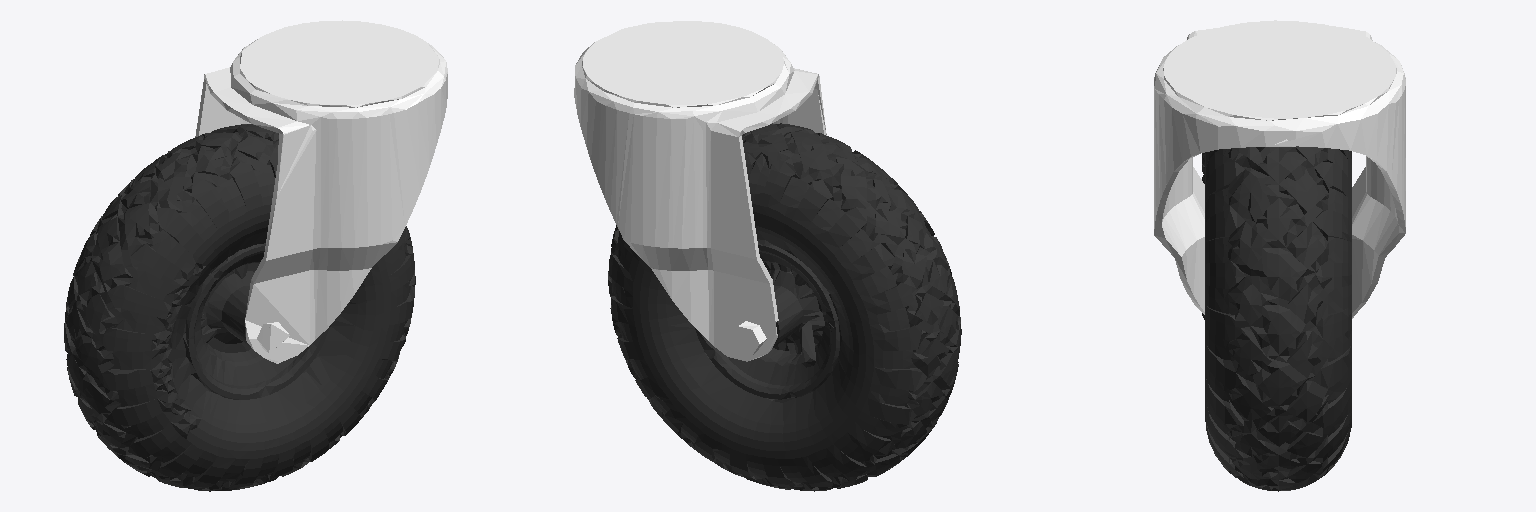
robot.urdf — caster_cart:
<?xml version="1.0" ?>
<!-- =================================================================================== -->
<!-- |    This document was autogenerated by xacro from caster_stool.urdf.xacro        | -->
<!-- |    EDITING THIS FILE BY HAND IS NOT RECOMMENDED                                 | -->
<!-- =================================================================================== -->
<!--
Description of the caster module for the Innok Heros mobile platform.
Software License Agreement (BSD)
\authors [author]
\maintainer [author] <[email redacted]>
\copyright Copyright (c) 2015, Innok Robotics GmbH, All rights reserved
Redistribution and use in source and binary forms, with or without modification, are permitted provided that the following conditions are met:
1. Redistributions of source code must retain the above copyright notice, this list of conditions and the following disclaimer.
2. Redistributions in binary form must reproduce the above copyright notice, this list of conditions and the following disclaimer in the documentation and/or other materials provided with the distribution.
THIS SOFTWARE IS PROVIDED BY THE COPYRIGHT [author] "AS IS" AND ANY EXPRESS OR IMPLIED WARRANTIES, INCLUDING, BUT NOT LIMITED TO, THE IMPLIED WARRANTIES OF MERCHANTABILITY AND FITNESS FOR A PARTICULAR PURPOSE ARE DISCLAIMED. IN NO EVENT SHALL THE COPYRIGHT [author] LIABLE FOR ANY DIRECT, INDIRECT, INCIDENTAL, SPECIAL, EXEMPLARY, OR CONSEQUENTIAL DAMAGES (INCLUDING, BUT NOT LIMITED TO, PROCUREMENT OF SUBSTITUTE GOODS OR SERVICES; LOSS OF USE, DATA, OR PROFITS; OR BUSINESS INTERRUPTION) HOWEVER CAUSED AND ON ANY THEORY OF LIABILITY, WHETHER IN CONTRACT, STRICT LIABILITY, OR TORT (INCLUDING NEGLIGENCE OR OTHERWISE) ARISING IN ANY WAY OUT OF THE USE OF THIS SOFTWARE, EVEN IF ADVISED OF THE POSSIBILITY OF SUCH DAMAGE.
-->
<robot name="caster_cart" xmlns:xacro="http://ros.org/wiki/xacro">
  <link name="caster_top">
    <inertial>
      <origin rpy="0 0 0" xyz="-0.006133 0 -0.016533"/>
      <mass value="0.1"/>
      <inertia ixx="5.46e-4" ixy="0" ixz="0" iyy="5.46e-4" iyz="0" izz="3.4e-4"/>
    </inertial>
    <visual>
      <origin rpy="0 0 0" xyz="0 0 0"/>
      <geometry>
        <mesh filename="model://caster_cart/meshes/caster_top.STL" scale="0.267 0.267 0.267"/>
      </geometry>
      <material name="white">
        <color rgba="1 1 1 1"/>
      </material>
    </visual>
    <collision>
      <origin rpy="0 0 0" xyz="0 0 -0.01333"/>
      <geometry>
        <cylinder length="0.024" radius="0.01866"/>
      </geometry>
    </collision>
  </link>
  <link name="caster_wheel">
    <inertial>
      <origin rpy="0 0 0" xyz="0 0 0"/>
      <mass value="0.05"/>
      <inertia ixx="1.13e-4" ixy="0" ixz="0" iyy="2e-4" iyz="0" izz="1.13e-4"/>
    </inertial>
    <visual>
      <origin rpy="0 0 0" xyz="0 0 0"/>
      <geometry>
        <mesh filename="model://caster_cart/meshes/caster_wheel.STL" scale="0.267 0.267 0.267"/>
      </geometry>
      <material name="">
        <color rgba="0.25 0.25 0.25 1"/>
      </material>
    </visual>
    <collision>
      <origin rpy="-1.57 0 0" xyz="0 0 0 "/>
      <geometry>
        <cylinder length="0.02267" radius="0.0333"/>
      </geometry>
    </collision>
  </link>
  <gazebo reference="caster_wheel">
    <collision>
      <max_contacts>1000</max_contacts>
      <surface>
        <friction>
          <torsional>
            <coefficient>0.1</coefficient>
            <patch_radius>0.001</patch_radius>
            <use_patch_radius>1</use_patch_radius>
            <ode>
              <slip>0.1</slip>
            </ode>
          </torsional>
          <ode>
            <mu>10</mu>
            <mu2>10</mu2>
          </ode>
        </friction>
        <contact>
          <ode>
            <min_depth>0.005</min_depth>
          </ode>
        </contact>
      </surface>
    </collision>
    <material>Gazebo/Grey</material>
  </gazebo>
  <joint name="caster_wheel_joint" type="continuous">
    <origin rpy="0 0 0.003" xyz="-0.0213 -0.00373 -0.0453"/>
    <parent link="caster_top"/>
    <child link="caster_wheel"/>
    <axis xyz="0 1 0"/>
    <dynamics damping="0.004"/>
  </joint>
</robot>

--- What the picture shows (computed from the rendered views, not written in the file) ---
Views: 3 orthographic renders of the robot side by side, from view 1: azimuth 30°, elevation 25°; view 2: azimuth 150°, elevation 25°; view 3: azimuth 270°, elevation 25°.
Robot: caster_cart — 2 links, 1 joints (1 continuous); root link caster_top; default pose: every joint at zero.
Visible links, largest first — view 1: caster_wheel, caster_top; view 2: caster_wheel, caster_top; view 3: caster_wheel, caster_top.
Boxes of the visible links, x1,y1,x2,y2 form: caster_wheel: [64, 124, 415, 491]; caster_top: [195, 20, 447, 363]; caster_wheel: [608, 123, 961, 491]; caster_top: [574, 21, 826, 361]; caster_wheel: [1202, 146, 1351, 491]; caster_top: [1154, 20, 1405, 318].
Bounding box of the posed robot: 0.0757 × 0.039 × 0.078 m (x, y, z).
Meshes: 2 distinct files referenced, 2 mesh visuals loaded (2 binary STL).